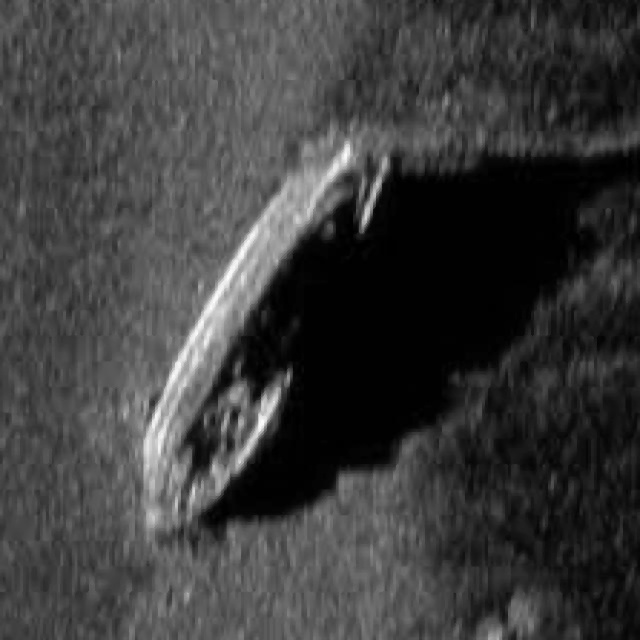Ship: (135, 114, 403, 551)
